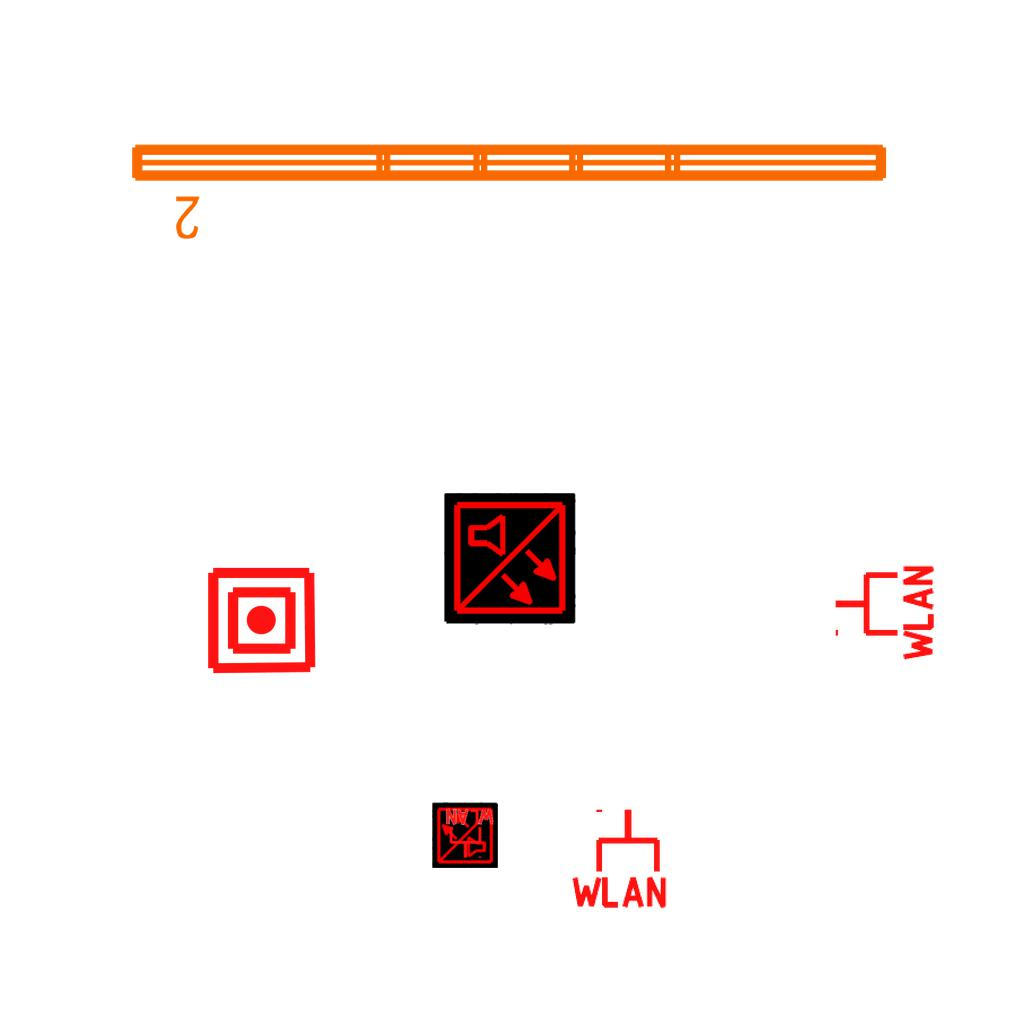Ambulanz_Pendelleuchte_LED: (123, 132, 897, 244)
NAM-Nichtautomatischer_Melder: (205, 564, 318, 677)
OKW_Multisensormelder_(Kombination_optischer_Rauch-Kahlenmonoxid_Waerme-Melder): (444, 493, 576, 625), (432, 802, 498, 868)
WLAN: (567, 805, 671, 910), (831, 561, 936, 665), (444, 808, 496, 860)
